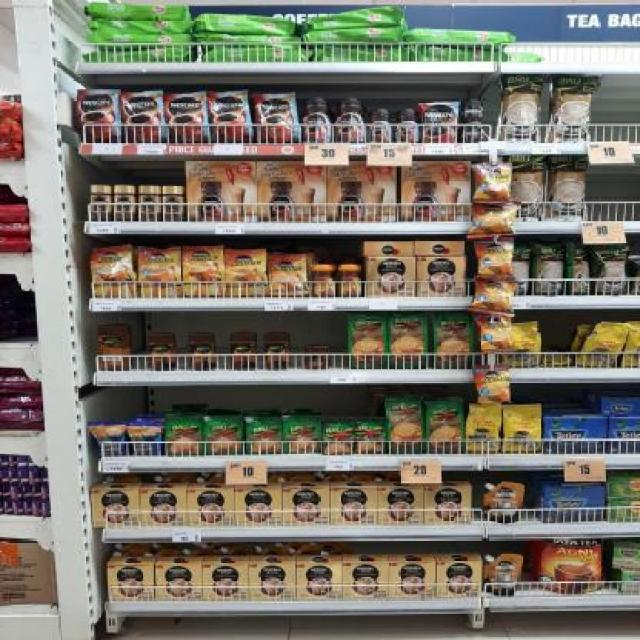Coffee: (76, 90, 120, 142), (183, 246, 225, 297), (254, 95, 298, 142), (122, 93, 164, 142), (210, 93, 252, 142), (140, 248, 182, 297), (92, 248, 134, 297), (166, 94, 209, 141), (226, 251, 268, 295), (269, 256, 306, 295), (422, 102, 456, 144), (302, 99, 333, 143), (335, 99, 365, 143), (476, 166, 510, 200), (478, 369, 510, 403), (480, 314, 511, 349), (477, 242, 512, 272), (478, 278, 512, 308), (477, 204, 514, 230), (396, 109, 419, 142), (114, 185, 135, 221), (140, 185, 160, 221), (312, 265, 334, 297), (90, 185, 110, 220), (163, 185, 182, 221), (370, 109, 390, 142), (338, 266, 360, 296), (463, 99, 485, 121), (462, 123, 483, 142)
